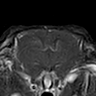Brain: (19, 32, 77, 70)
